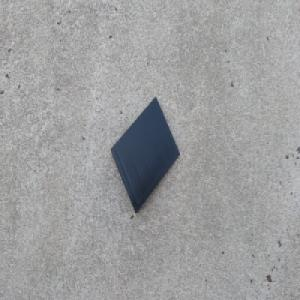PlasticPart: (110, 95, 180, 214)
